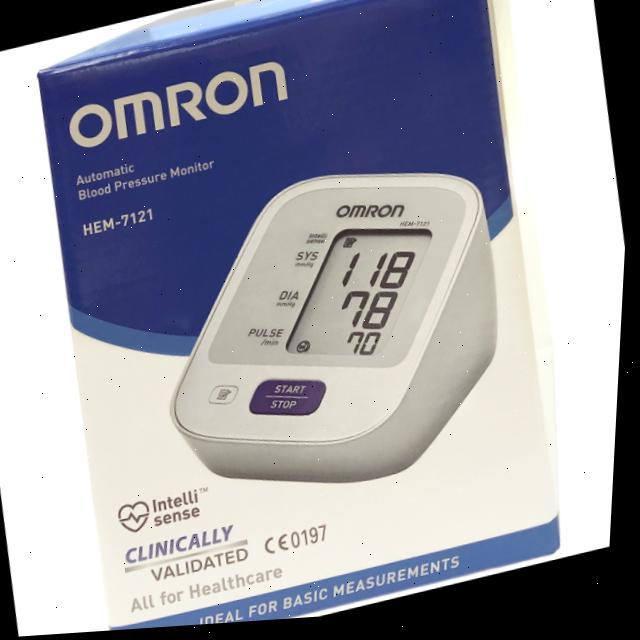dia: (331, 291, 406, 339)
pul: (338, 331, 389, 366)
ssd: (285, 203, 435, 390)
sys: (337, 253, 425, 297)
